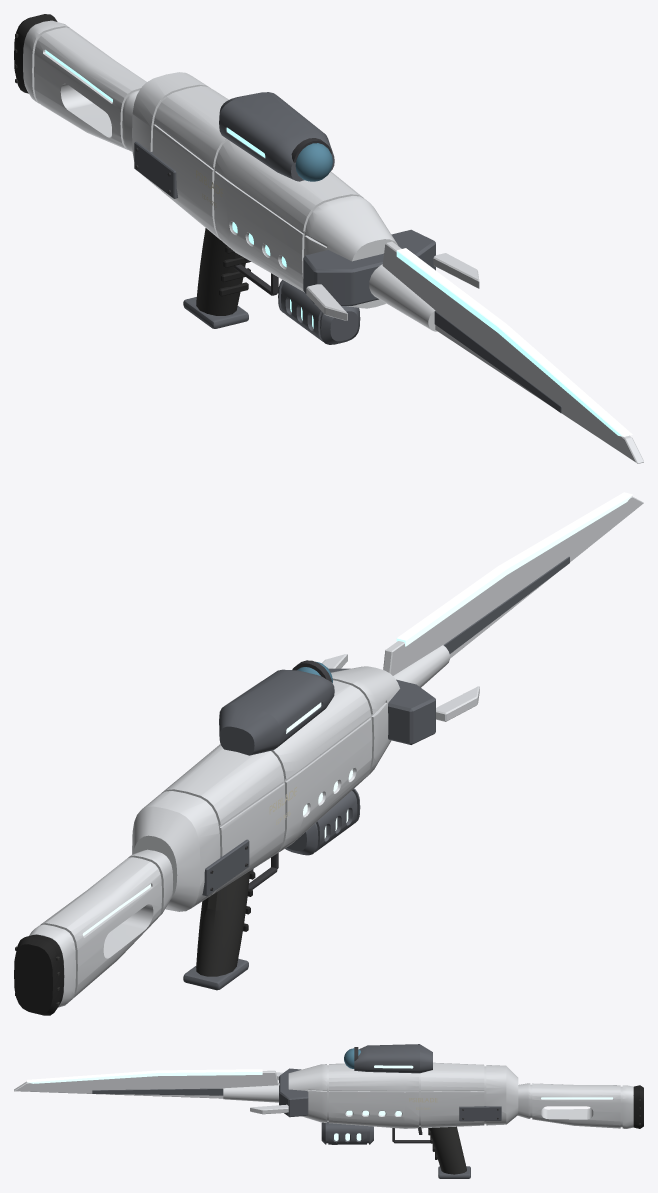
Rendered from psiblade.glb.
3 renders of one model, top to bottom at view 1: azimuth 30°, elevation 25°; view 2: azimuth 150°, elevation 25°; view 3: azimuth 270°, elevation 25°, orthographic. The views are drawn at different scales.
Parts seen in each view (by area): view 1: Body; view 2: Body; view 3: Body.
Part boxes in pixels (x1,y1,x2,y2): Body: [14, 14, 643, 463]; Body: [14, 492, 643, 1015]; Body: [14, 1044, 643, 1178].
Bounding box in the file's own units: 0.1397 × 0.2136 × 0.9613.
